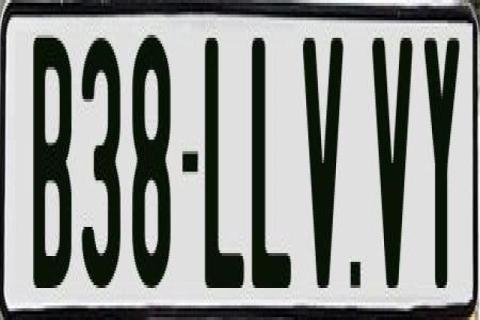0: (80, 38, 123, 302), (133, 35, 171, 297)
B: (31, 29, 75, 288)
L: (202, 38, 246, 297), (249, 35, 289, 285)
V: (372, 29, 417, 297), (300, 38, 344, 291)
Y: (424, 29, 462, 297)
